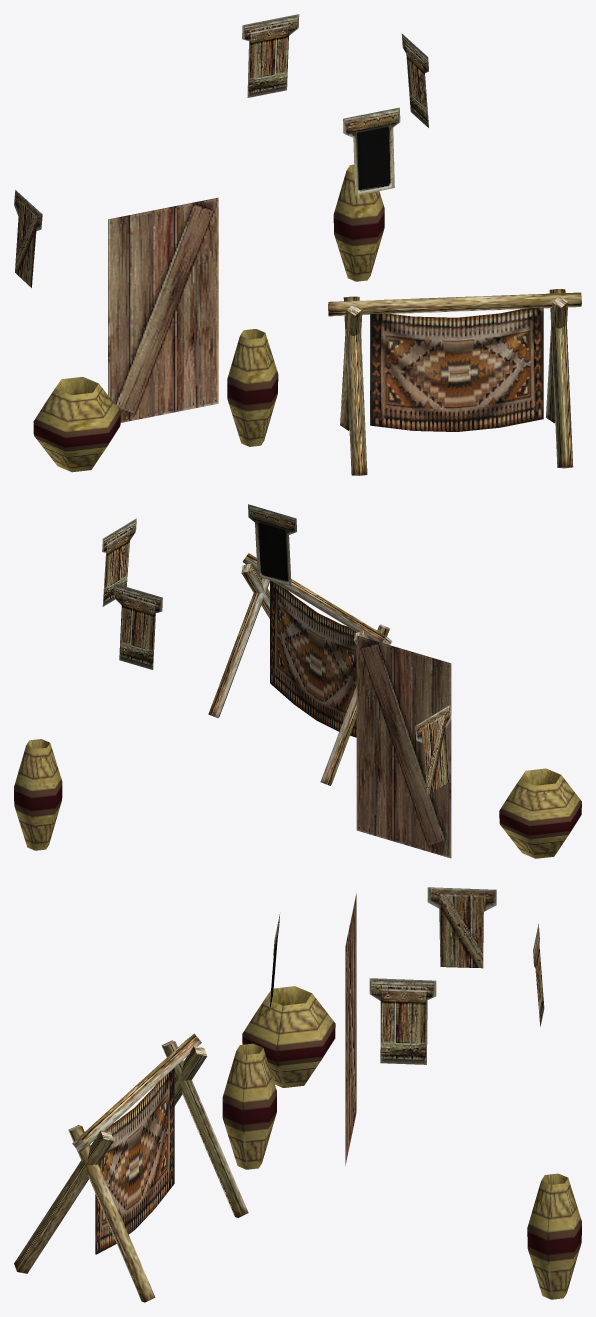
The model's file is iber_house_a_1.dae.
3 views of the same model, one above another, from view 1: azimuth 30°, elevation 25°; view 2: azimuth 150°, elevation 25°; view 3: azimuth 270°, elevation 25° (orthographic). The views are drawn at different scales.
Visible parts, largest first — view 1: Object08; view 2: Object08; view 3: Object08.
Part boxes in pixels (x1,y1,x2,y2): Object08: (14, 14, 581, 475); Object08: (14, 504, 581, 858); Object08: (14, 887, 581, 1302).
Bounding box in the file's own units: 9.41 × 9.29 × 5.65.
